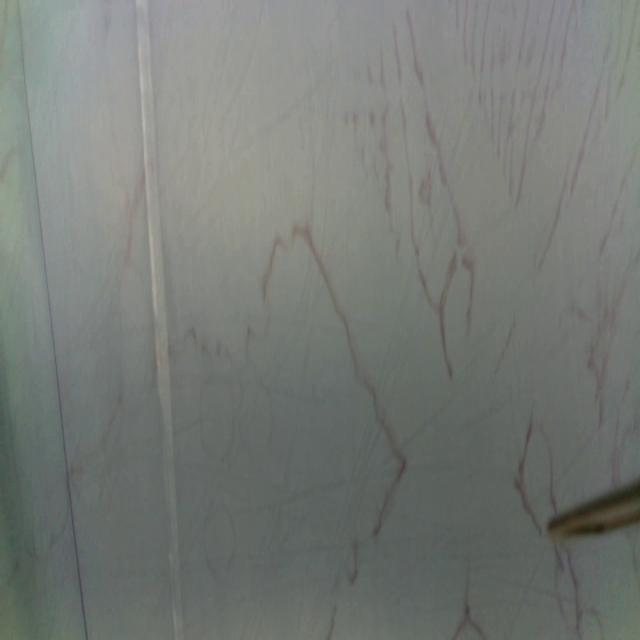crease: (18, 3, 88, 640), (134, 0, 184, 640)
